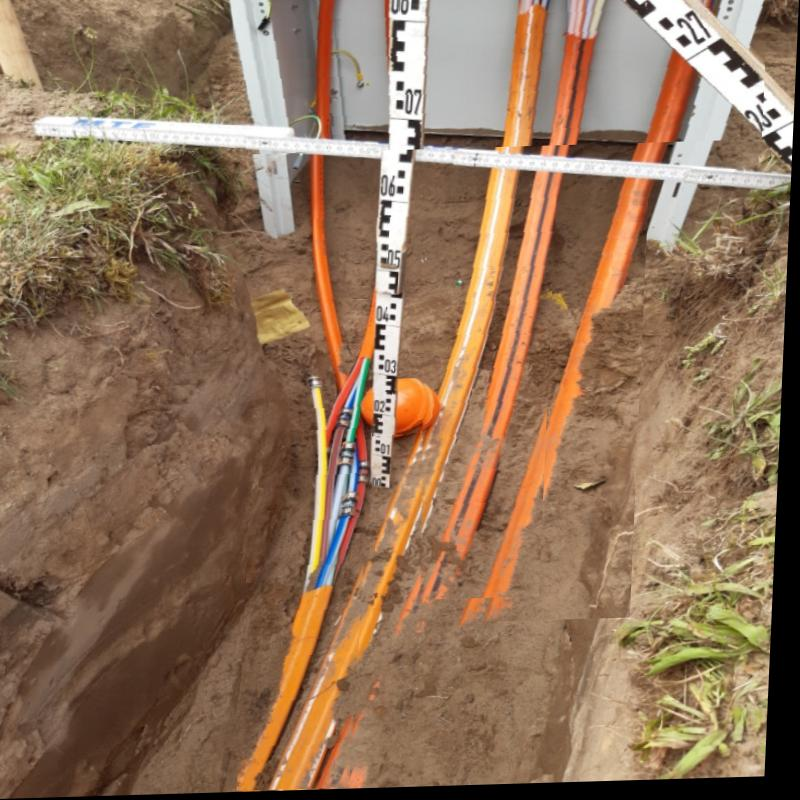Kugelmarker: (367, 381, 437, 438)
NT-Gehause: (235, 0, 764, 145)
Orang-Speednetrohrchen: (299, 219, 510, 766), (487, 199, 650, 625), (424, 184, 559, 603), (244, 410, 375, 794)
